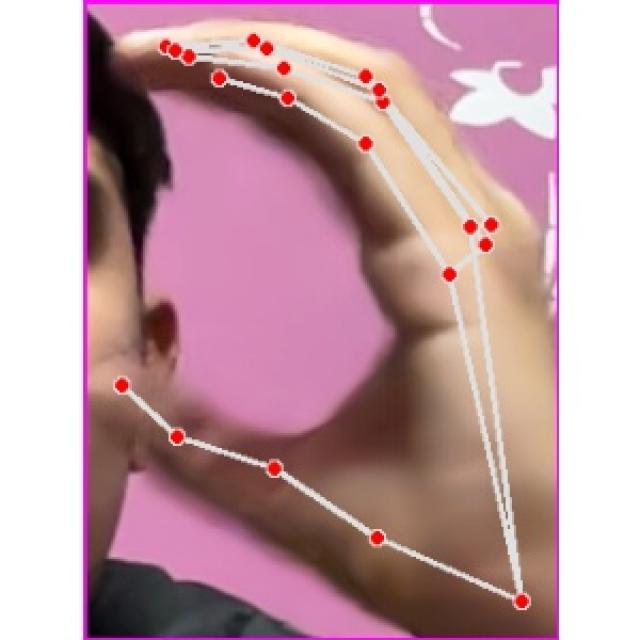C: (97, 15, 559, 634)
